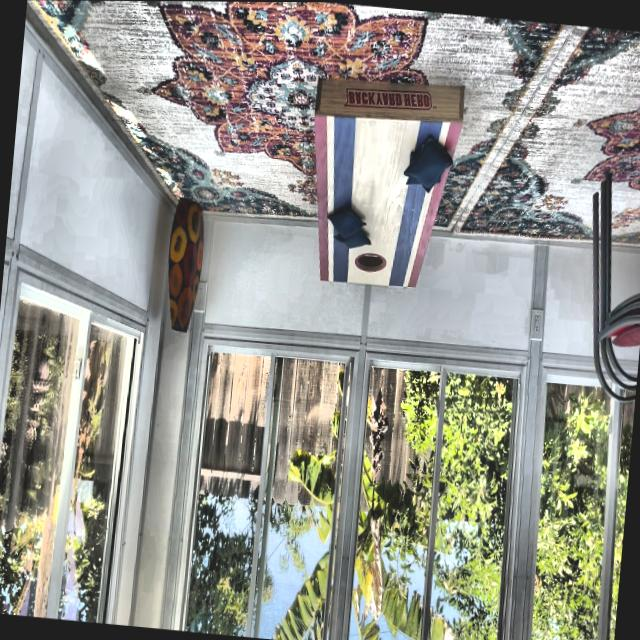blue-bean-bag: (401, 133, 455, 195), (406, 149, 443, 189), (325, 206, 367, 239), (332, 227, 372, 251)
board: (312, 115, 441, 289)
hole: (352, 250, 388, 273)
